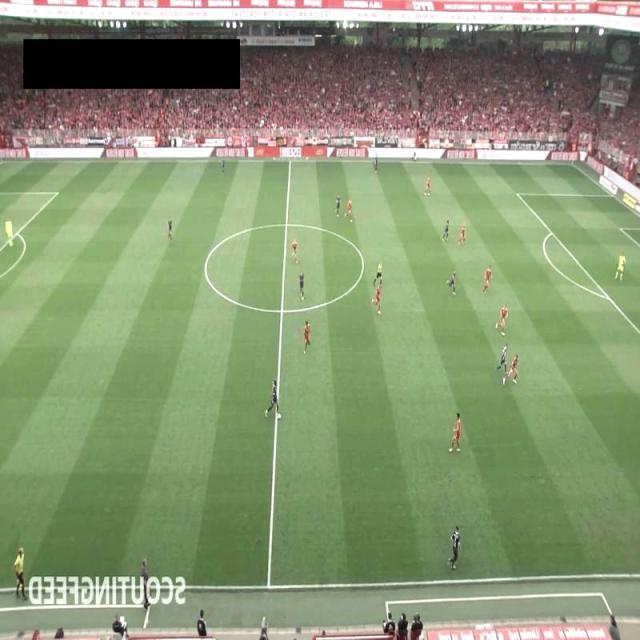bigarea_top_inner: (508, 190, 526, 200), (50, 187, 61, 198)
bigarea_top_outter: (606, 189, 618, 200)
bottom_arc_area_intersection: (604, 294, 616, 304)
corner: (567, 160, 578, 172), (0, 155, 10, 166)
halfcircle_bottom: (276, 306, 288, 317)
halfcircle_top: (280, 219, 292, 230)
midline_bottom_intersection: (259, 578, 279, 595)
midline_top_intersection: (284, 155, 295, 166)
smallarea_top_inner: (614, 222, 626, 232)
top_arc_area_intersection: (547, 228, 558, 238)
